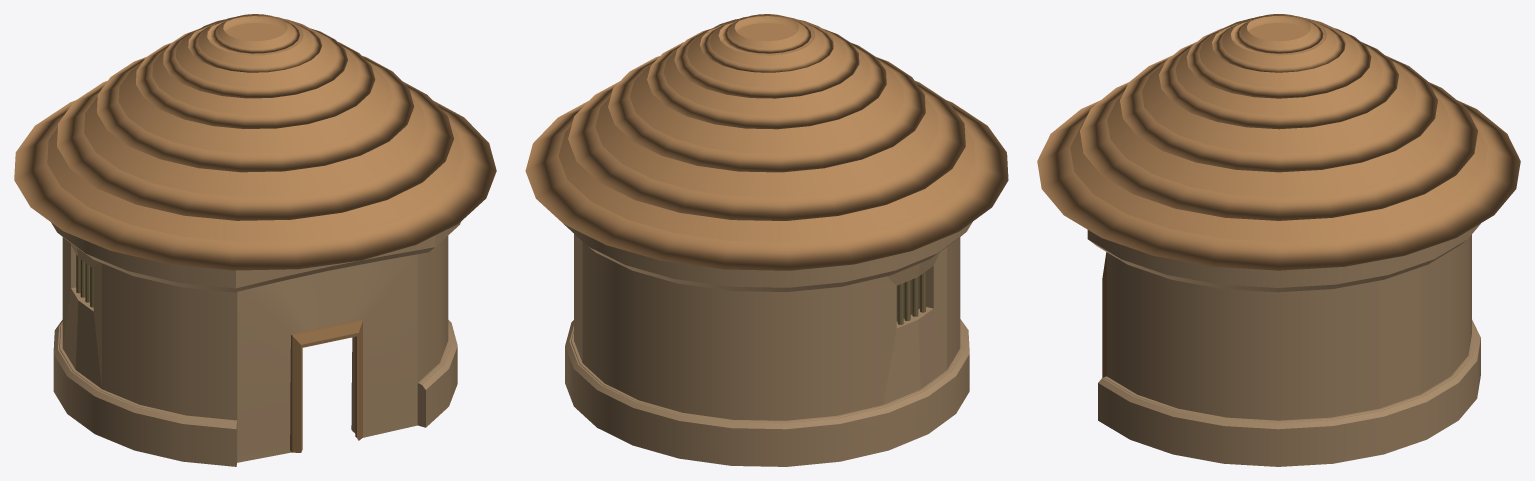
File: Maison_3.fbx
The picture shows the model from 3 angles, left to right: view 1: azimuth 30°, elevation 25°; view 2: azimuth 150°, elevation 25°; view 3: azimuth 270°, elevation 25°; orthographic projection.
Visible parts, largest first — view 1: pCylinder2, pCylinder3, pasted__pCylinder3, pasted__pasted__pCylinder3, pasted__pasted__pasted__pCylinder3, pasted__pasted__pasted__pasted__pCylinder3, pasted__pCube2, pasted__pasted__pasted__pasted__pasted__pCylinder3, pasted__pasted__pasted__pasted__pasted__pasted__pCylinder3; view 2: pCylinder2, pCylinder3, pasted__pCylinder3, pasted__pasted__pCylinder3, pasted__pasted__pasted__pCylinder3, pasted__pasted__pasted__pasted__pCylinder3, pasted__pasted__pasted__pasted__pasted__pCylinder3, pasted__pasted__pasted__pasted__pasted__pasted__pCylinder3; view 3: pCylinder2, pCylinder3, pasted__pCylinder3, pasted__pasted__pCylinder3, pasted__pasted__pasted__pCylinder3, pasted__pasted__pasted__pasted__pCylinder3, pasted__pasted__pasted__pasted__pasted__pCylinder3, pasted__pasted__pasted__pasted__pasted__pasted__pCylinder3, pasted__pCube2.
Part boxes in pixels (box(x1,y1,x2,y2)): pCylinder2: box(51, 222, 460, 466); pCylinder3: box(14, 100, 496, 270); pasted__pCylinder3: box(57, 81, 453, 220); pasted__pasted__pCylinder3: box(97, 56, 414, 172); pasted__pasted__pasted__pCylinder3: box(136, 31, 375, 128); pasted__pasted__pasted__pasted__pCylinder3: box(163, 19, 347, 98); pasted__pCube2: box(290, 319, 362, 452); pasted__pasted__pasted__pasted__pasted__pCylinder3: box(189, 16, 321, 72); pasted__pasted__pasted__pasted__pasted__pasted__pCylinder3: box(211, 14, 299, 53); pCylinder2: box(564, 222, 972, 466); pCylinder3: box(525, 100, 1008, 270); pasted__pCylinder3: box(568, 81, 965, 220); pasted__pasted__pCylinder3: box(608, 56, 925, 172); pasted__pasted__pasted__pCylinder3: box(647, 31, 886, 129); pasted__pasted__pasted__pasted__pCylinder3: box(674, 19, 859, 98); pasted__pasted__pasted__pasted__pasted__pCylinder3: box(700, 16, 833, 72); pasted__pasted__pasted__pasted__pasted__pasted__pCylinder3: box(722, 14, 811, 53); pCylinder2: box(1087, 223, 1480, 466); pCylinder3: box(1037, 100, 1520, 270); pasted__pCylinder3: box(1080, 82, 1477, 220); pasted__pasted__pCylinder3: box(1120, 55, 1437, 172); pasted__pasted__pasted__pCylinder3: box(1159, 31, 1398, 129); pasted__pasted__pasted__pasted__pCylinder3: box(1186, 18, 1371, 98); pasted__pasted__pasted__pasted__pasted__pCylinder3: box(1212, 16, 1345, 72); pasted__pasted__pasted__pasted__pasted__pasted__pCylinder3: box(1234, 14, 1323, 53); pasted__pCube2: box(1102, 252, 1106, 377).
Size of the model in its own units: 24.42 by 19.84 by 24.48.
